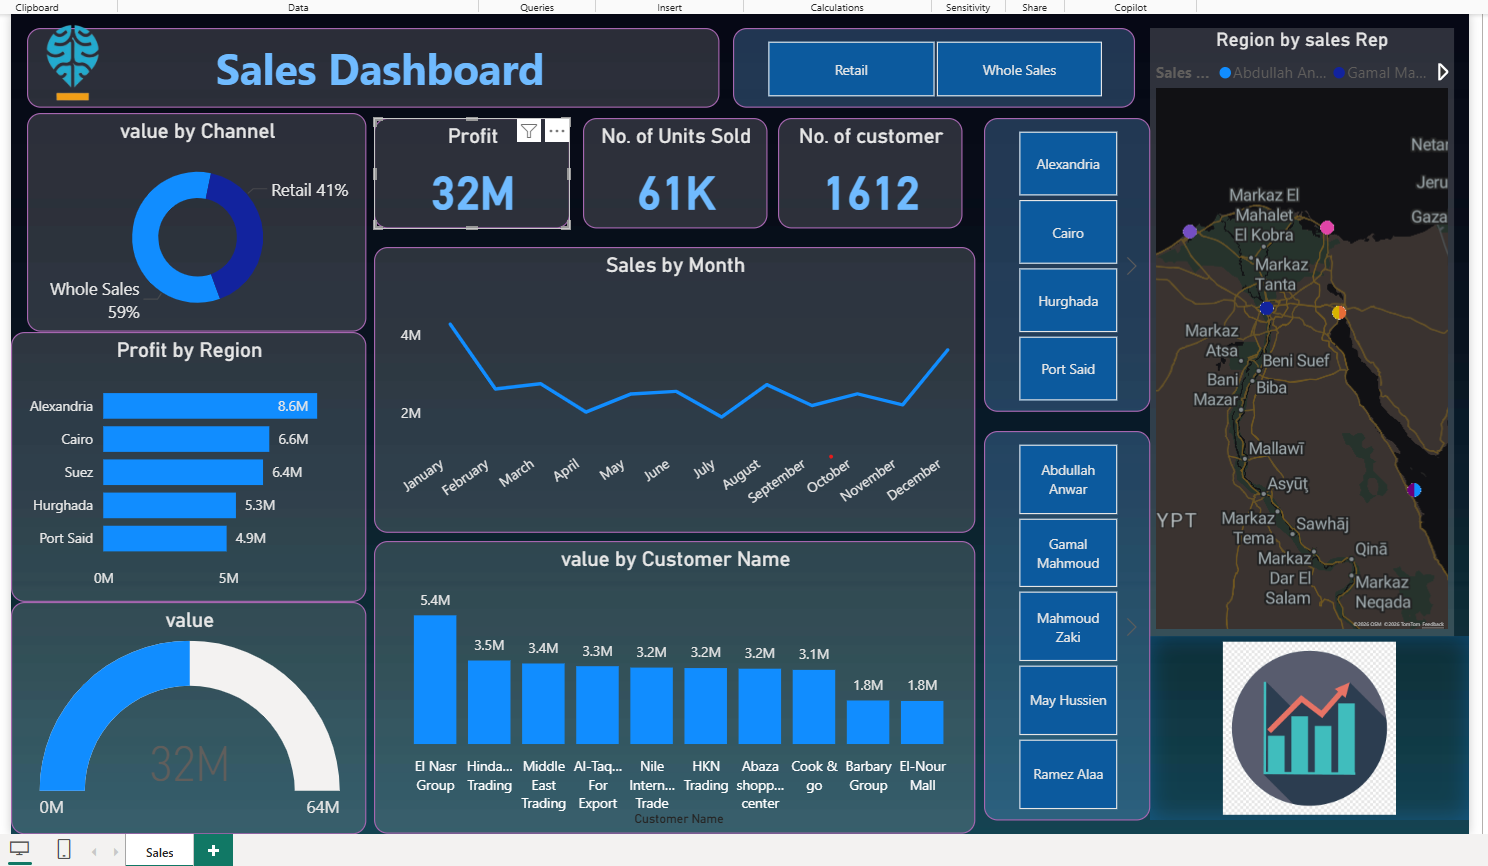

The page's visual inventory and layout, read from the dashboard file:
{"tool":"powerbi","page":{"name":"Sales","canvas":[1280,720],"ordinal":0},"visuals":[{"type":"lineChart","title":"Sales by Month","fields":{"Category":["ALL_sales.Date.Variation.Date Hierarchy.Month"],"Y":["Sum(ALL_sales.value)"]},"box":[318.7,204.6,527.7,251.1],"z":0},{"type":"barChart","title":"Profit by Region","fields":{"Category":["ALL_sales.Region"],"Y":["Sum(ALL_sales.value)"]},"box":[0,279.2,311.7,237.1],"z":1000},{"type":"azureMap","title":"Region by sales Rep","fields":{"Category":["ALL_sales.Region"],"Series":["ALL_sales.Sales Rep."]},"box":[1000,12.3,267.5,533.7],"z":2000},{"type":"columnChart","title":" value by Customer Name","fields":{"Y":["Sum(ALL_sales.value)"],"Category":["ALL_sales.Customer Name"]},"box":[318.7,462.7,527.7,257.3],"z":3000},{"type":"gauge","title":"value","fields":{"Y":["Sum(ALL_sales.value)"]},"box":[0,516.3,311.7,203.7],"z":4000},{"type":"slicer","fields":{"Values":["ALL_sales.Channel"]},"box":[634.4,12.1,353.4,69.9],"z":5000},{"type":"textbox","box":[14.5,12.1,607.8,69.9],"z":6000},{"type":"card","title":"Profit","fields":{"Values":["Sum(ALL_sales.value)"]},"box":[318.7,91.3,172.1,97.5],"z":7000},{"type":"card","title":"No. of Units Sold","fields":{"Values":["Sum(ALL_sales.Qty)"]},"box":[502.2,91.3,161.6,97.5],"z":8000},{"type":"donutChart","title":"value by Channel","fields":{"Y":["Sum(ALL_sales.value)"],"Category":["ALL_sales.Channel"]},"box":[14,86.9,297.7,192.3],"z":9000},{"type":"slicer","fields":{"Values":["ALL_sales.Region"]},"box":[854.3,91.3,145.8,258.1],"z":10000},{"type":"image","box":[1000.1,546.1,280.1,161.6],"z":11000},{"type":"slicer","fields":{"Values":["ALL_sales.Sales Rep."]},"box":[854.3,366.1,145.8,341.6],"z":12000},{"type":"image","box":[14,2.6,79.9,79.9],"z":13000},{"type":"card","title":"No. of customer","fields":{"Values":["CountNonNull(ALL_sales.Customer ID)"]},"box":[673.5,91.3,161.6,97.5],"z":14000}]}

Visuals, with their boxes in screenshot pixels (x1, y1, x2, y2):
"Sales by Month" lineChart: bbox=(373, 235, 978, 522)
"Profit by Region" barChart: bbox=(8, 320, 365, 592)
"Region by sales Rep" azureMap: bbox=(1154, 14, 1461, 626)
" value by Customer Name" columnChart: bbox=(373, 530, 978, 825)
"value" gauge: bbox=(8, 592, 365, 825)
slicer - ALL_sales.Channel: bbox=(735, 14, 1140, 94)
textbox: bbox=(24, 14, 721, 94)
"Profit" card: bbox=(373, 105, 570, 216)
"No. of Units Sold" card: bbox=(583, 105, 769, 216)
"value by Channel" donutChart: bbox=(24, 100, 365, 320)
slicer - ALL_sales.Region: bbox=(987, 105, 1154, 401)
image: bbox=(1154, 626, 1475, 811)
slicer - ALL_sales.Sales Rep.: bbox=(987, 420, 1154, 811)
image: bbox=(24, 3, 115, 95)
"No. of customer" card: bbox=(780, 105, 965, 216)
